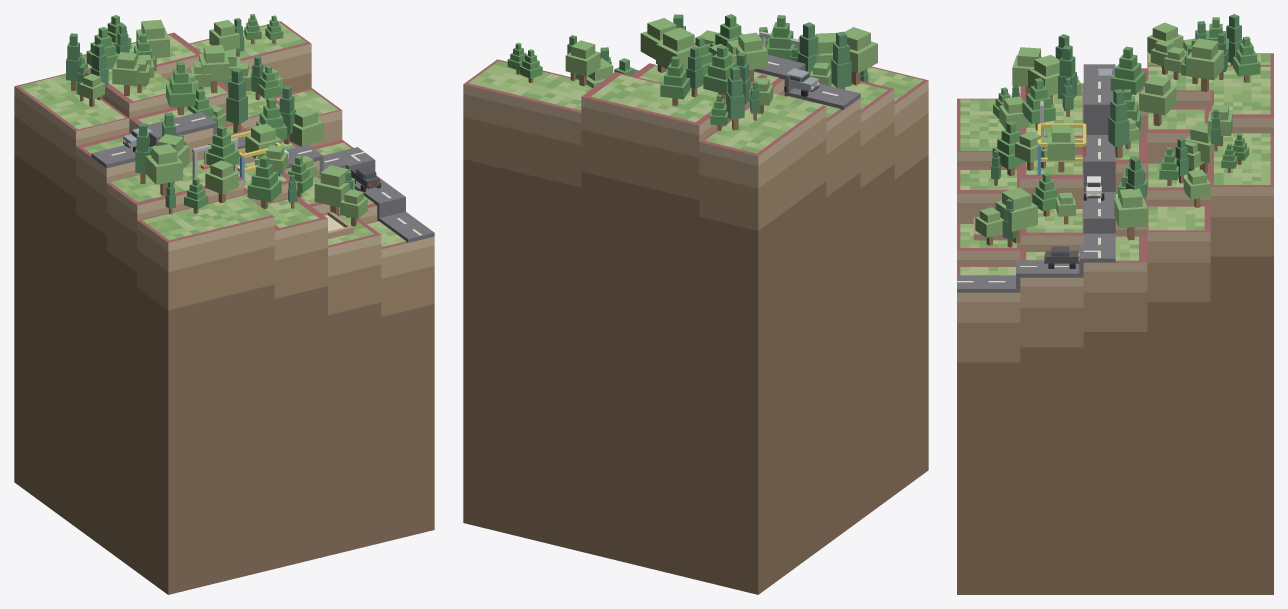
The model's file is block_20_sewersystem_0.glb.
3 renders of one model, left to right at view 1: azimuth 30°, elevation 25°; view 2: azimuth 150°, elevation 25°; view 3: azimuth 270°, elevation 25°, orthographic. The views are drawn at different scales.
Visible parts, largest first — view 1: Patch_UpperRight_b20_SL, Green_UpperRight_b20_SL, Roads_UpperRight_b20_SL, PlayEquip_UpperRight_b20_SL, URTree_20_37_SL, URTree_20_16_SL, URTree_20_13_SL, URTree_20_0_SL, URTree_20_5_SL, URTree_20_18_SL, URTree_20_3_SL, URTree_20_35_SL (+15 smaller); view 2: Patch_UpperRight_b20_SL, Green_UpperRight_b20_SL, Roads_UpperRight_b20_SL, URTree_20_37_SL, URTree_20_46_SL, URTree_20_25_SL, URTree_20_41_SL, URTree_20_34_SL, URTree_20_49_SL, URTree_20_45_SL, URTree_20_50_SL, URTree_20_36_SL (+3 smaller); view 3: Patch_UpperRight_b20_SL, Green_UpperRight_b20_SL, Roads_UpperRight_b20_SL, URTree_20_46_SL, URTree_20_3_SL, URTree_20_16_SL, URTree_20_18_SL, URTree_20_0_SL, URTree_20_5_SL, PlayEquip_UpperRight_b20_SL, URTree_20_15_SL, URTree_20_36_SL (+21 smaller).
Boxes of the visible parts, <box> form: Patch_UpperRight_b20_SL: <box>14,21,434,594</box>; Green_UpperRight_b20_SL: <box>19,22,405,246</box>; Roads_UpperRight_b20_SL: <box>91,112,434,242</box>; PlayEquip_UpperRight_b20_SL: <box>192,130,353,239</box>; URTree_20_37_SL: <box>145,144,182,195</box>; URTree_20_16_SL: <box>314,165,354,216</box>; URTree_20_13_SL: <box>247,156,281,208</box>; URTree_20_0_SL: <box>226,68,247,133</box>; URTree_20_5_SL: <box>166,61,195,115</box>; URTree_20_18_SL: <box>289,106,323,146</box>; URTree_20_3_SL: <box>199,45,229,93</box>; URTree_20_35_SL: <box>205,160,238,203</box>; Patch_UpperRight_b20_SL: <box>463,59,928,594</box>; Green_UpperRight_b20_SL: <box>469,61,923,153</box>; Roads_UpperRight_b20_SL: <box>634,54,860,109</box>; URTree_20_37_SL: <box>844,27,877,85</box>; URTree_20_46_SL: <box>656,27,698,70</box>; URTree_20_25_SL: <box>565,40,600,85</box>; URTree_20_41_SL: <box>703,45,736,100</box>; URTree_20_34_SL: <box>831,31,851,89</box>; URTree_20_49_SL: <box>660,56,690,105</box>; URTree_20_45_SL: <box>726,66,744,130</box>; URTree_20_50_SL: <box>736,32,767,81</box>; URTree_20_36_SL: <box>766,15,796,59</box>; Patch_UpperRight_b20_SL: <box>957,53,1273,594</box>; Green_UpperRight_b20_SL: <box>960,54,1270,275</box>; Roads_UpperRight_b20_SL: <box>957,64,1115,292</box>; URTree_20_46_SL: <box>1186,38,1224,91</box>; URTree_20_3_SL: <box>1139,75,1176,125</box>; URTree_20_16_SL: <box>995,187,1037,243</box>; URTree_20_18_SL: <box>1114,188,1147,240</box>; URTree_20_0_SL: <box>1108,89,1129,158</box>; URTree_20_5_SL: <box>1110,46,1145,95</box>; PlayEquip_UpperRight_b20_SL: <box>973,100,1086,240</box>; URTree_20_15_SL: <box>1047,125,1074,172</box>; URTree_20_36_SL: <box>1022,78,1055,130</box>.
Size of the model in its own units: 9.5 by 15.65 by 9.5.
